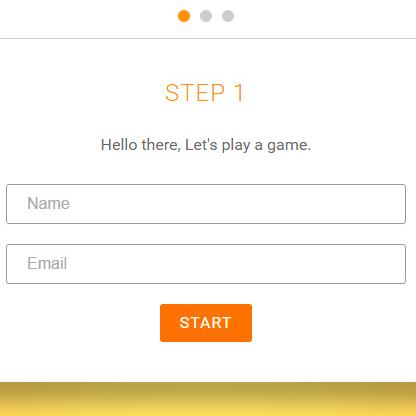button: (159, 303, 255, 344)
field: (3, 242, 406, 285), (5, 183, 407, 226)
